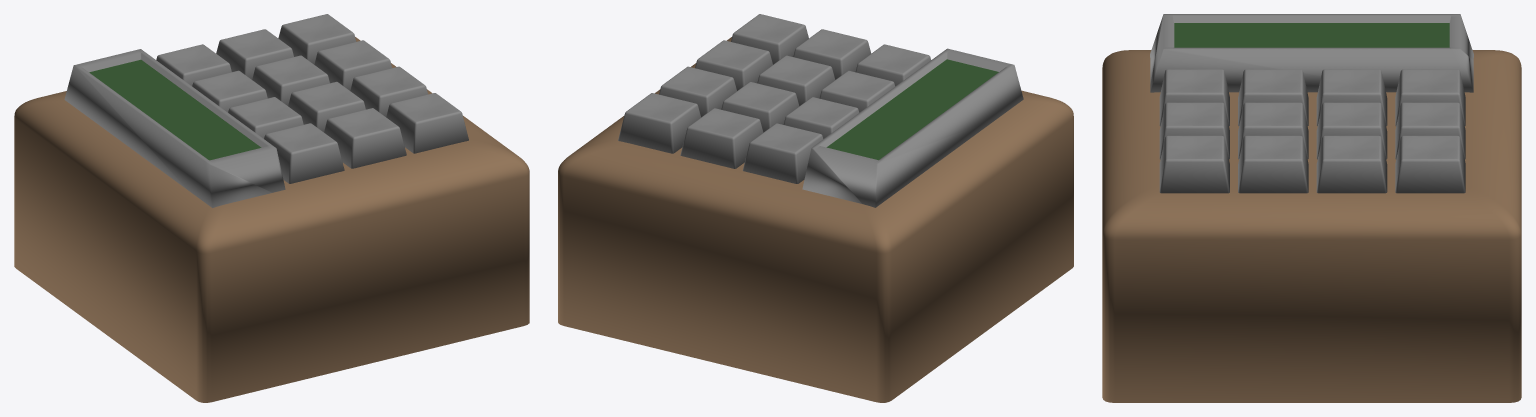
Rendered from Keypad.fbx.
3 views of the same model, side by side, from view 1: azimuth 30°, elevation 25°; view 2: azimuth 150°, elevation 25°; view 3: azimuth 270°, elevation 25° (orthographic). The views are drawn at different scales.
Parts seen in each view (by area): view 1: Small Panel, Screen, Key4, Key7, Key1, Key5, Key0, Key9, Key8, KeyStar, Key6, KeyHash (+2 smaller); view 2: Small Panel, Screen, Key0, KeyStar, KeyHash, Key9, Key6, Key8, Key5, Key7, Key4, Key2 (+2 smaller); view 3: Small Panel, Screen, Key9, Key0, Key8, Key7, Key6, Key3, KeyStar, KeyHash, Key2, Key5 (+2 smaller).
Boxes of the visible parts, x1,y1,x2,y2 form: Small Panel: [14, 37, 529, 402]; Screen: [64, 49, 285, 207]; Key4: [324, 108, 406, 168]; Key7: [386, 93, 468, 153]; Key1: [264, 123, 344, 183]; Key5: [288, 81, 365, 132]; Key0: [278, 14, 356, 64]; Key9: [314, 40, 391, 90]; Key8: [350, 66, 427, 116]; KeyStar: [216, 29, 293, 79]; Key6: [252, 55, 329, 105]; KeyHash: [156, 44, 231, 85]; Small Panel: [558, 37, 1073, 402]; Screen: [802, 48, 1023, 207]; Key0: [618, 93, 700, 153]; KeyStar: [680, 108, 763, 168]; KeyHash: [742, 123, 823, 183]; Key9: [659, 66, 736, 117]; Key6: [721, 82, 799, 132]; Key8: [695, 40, 772, 90]; Key5: [757, 55, 835, 105]; Key7: [731, 14, 808, 64]; Key4: [793, 29, 871, 79]; Key2: [819, 70, 895, 112]; Small Panel: [1102, 50, 1521, 402]; Screen: [1150, 14, 1473, 92]; Key9: [1316, 135, 1387, 193]; Key0: [1395, 135, 1465, 193]; Key8: [1238, 135, 1308, 193]; Key7: [1159, 135, 1229, 193]; Key6: [1316, 102, 1387, 159]; Key3: [1316, 69, 1387, 125]; KeyStar: [1395, 102, 1465, 159]; KeyHash: [1395, 69, 1465, 125]; Key2: [1238, 69, 1308, 125]; Key5: [1238, 102, 1308, 159].
Bounding box in the file's own units: 200 × 122 × 200.
